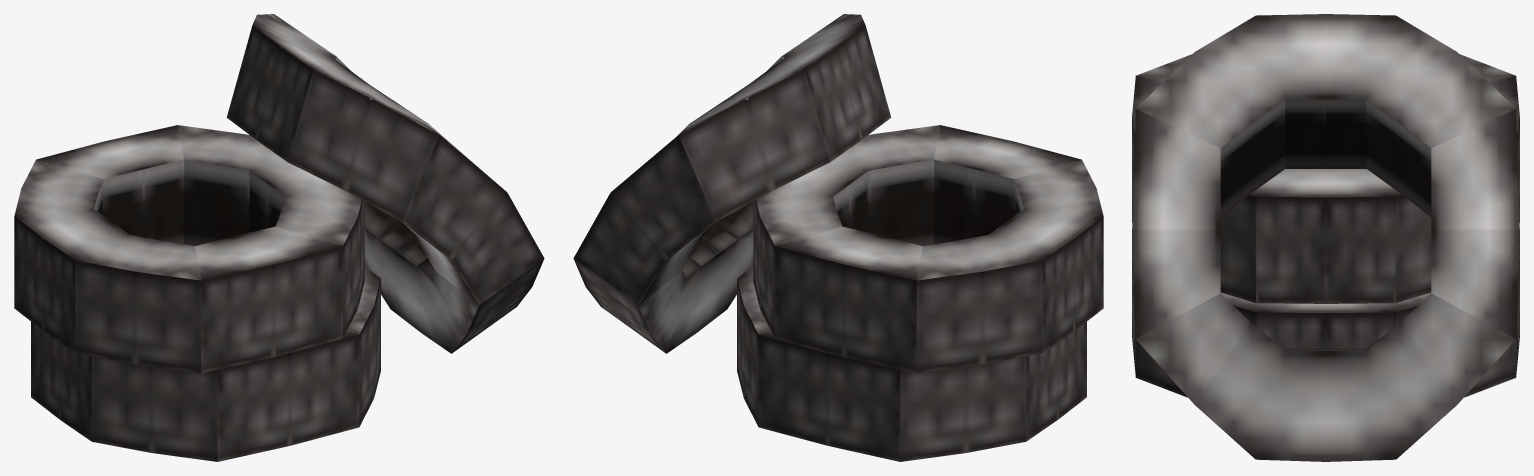
Rendered from Poly_SF_Outside_B_Pile_Up_Tires_01.obj.
The picture shows the model from 3 angles, left to right: view 1: azimuth 30°, elevation 25°; view 2: azimuth 150°, elevation 25°; view 3: azimuth 270°, elevation 25°; orthographic projection. The views are drawn at different scales.
Visible parts, largest first — view 1: Cube.001; view 2: Cube.001; view 3: Cube.001.
Boxes of the visible parts, x1=… form: Cube.001: x1=14, y1=14, x2=544, y2=461; Cube.001: x1=573, y1=14, x2=1103, y2=461; Cube.001: x1=1132, y1=14, x2=1519, y2=461.
Bounding box in the file's own units: 0.9574 × 0.6607 × 0.6302.
1 material, 1 textured.
